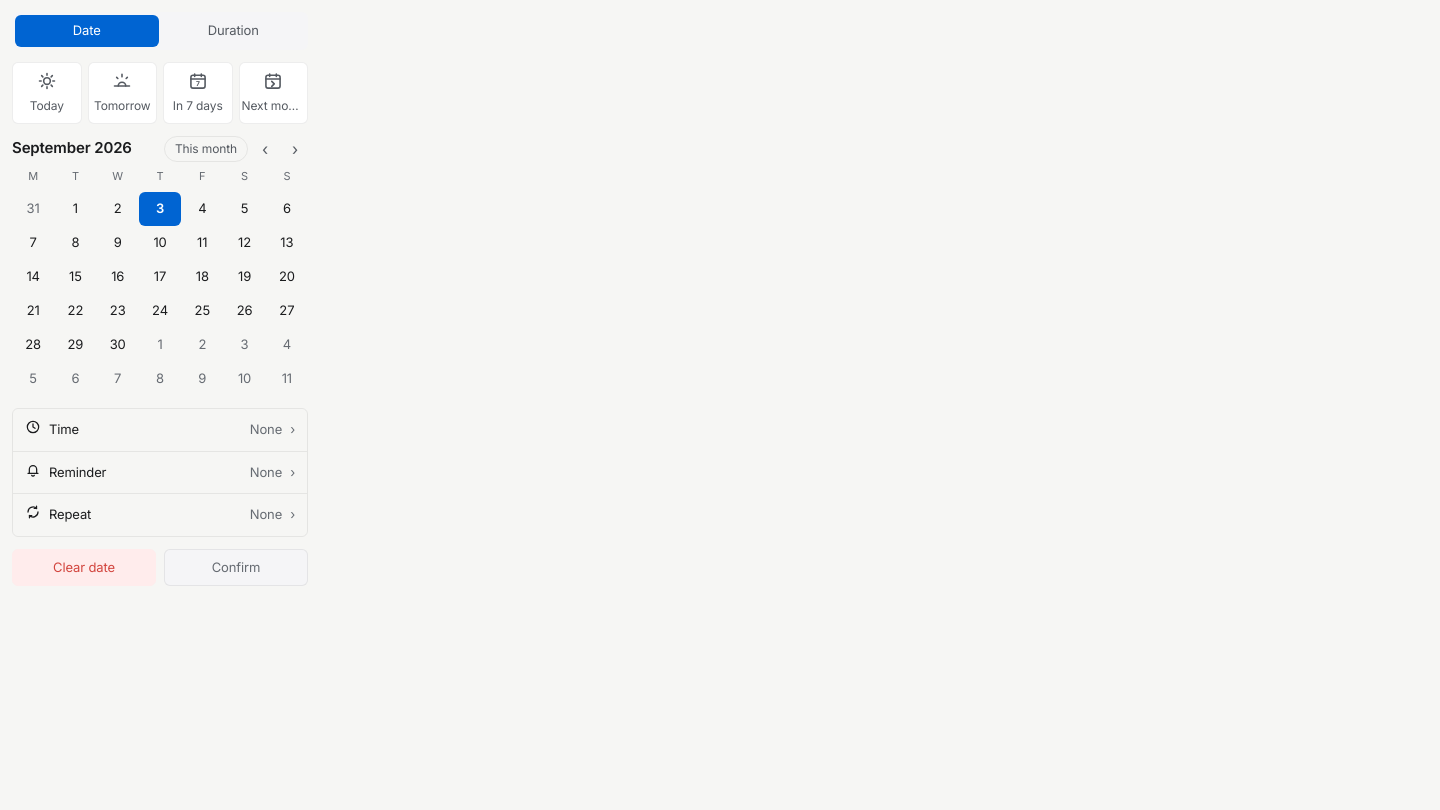
the three rows open in place (§4.1) › keeps the calendar while 반복 is open
What coordinates should you click on to do the following:
click the button "Repeat None ›"
I would click on:
 (70, 514)
Its box is left=13, top=494, right=307, bottom=536.
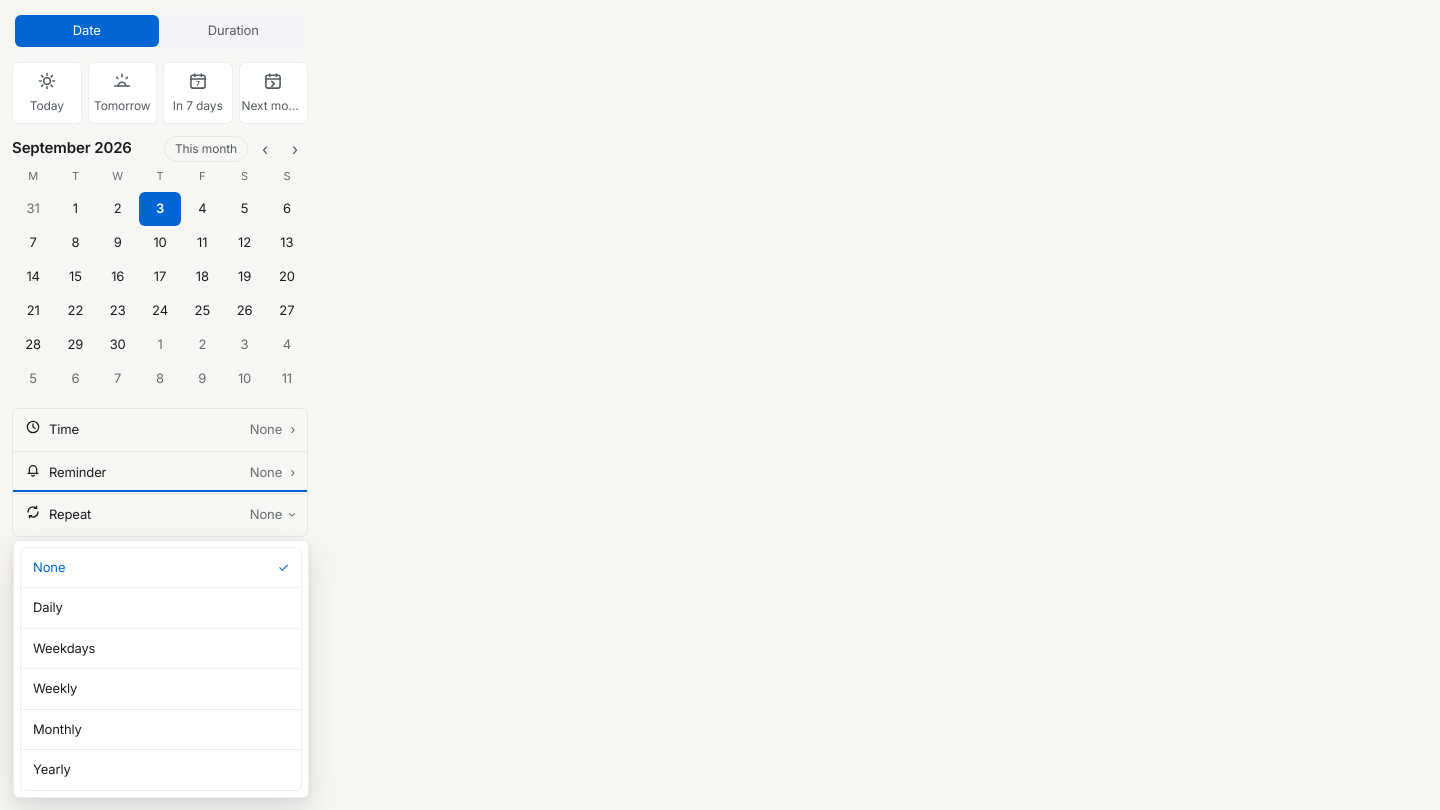
Expected: the element that starts with "September 2026" is shown, left=12, top=136, right=308, bottom=396
Expected: the element named "Repeat" is shown, left=20, top=546, right=302, bottom=790
